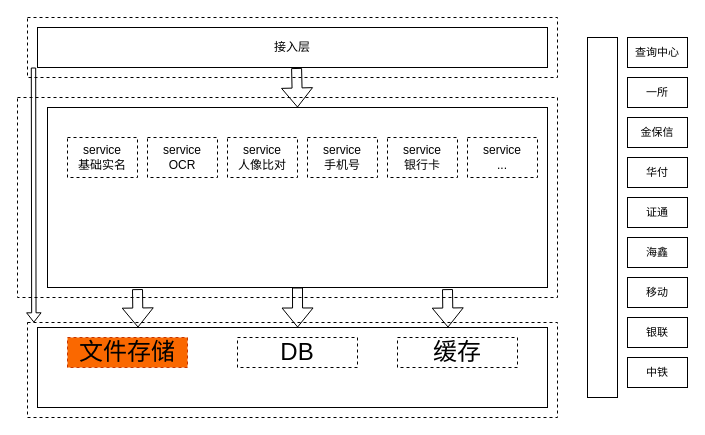
Some shapes in this 705 by 435 pixel diagram are drawn without their labels. The box of each missing label's shape, as (x1, y1, x2, y2) in pixels:
业务服务（鉴权、实名验证）: (46, 106, 548, 288)
外部数据源: (586, 36, 618, 398)
存储层: (36, 326, 548, 408)
